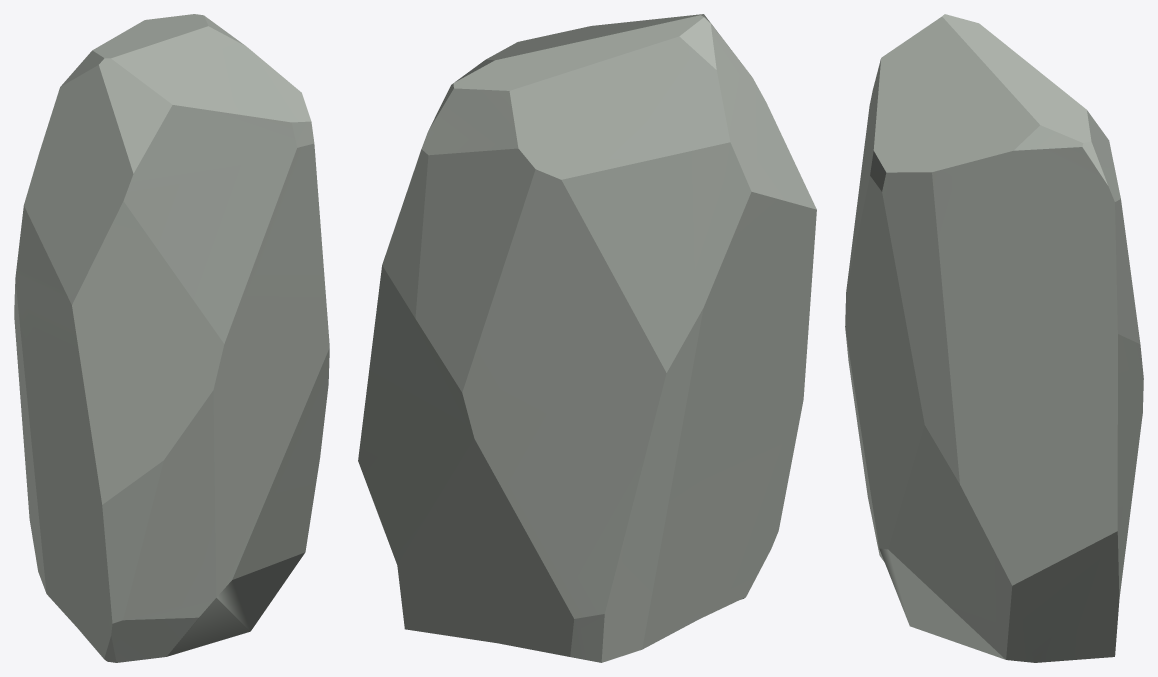
Rendered from dummy_cliff_5.fbx.
The picture shows the model from 3 angles, left to right: view 1: azimuth 30°, elevation 25°; view 2: azimuth 150°, elevation 25°; view 3: azimuth 270°, elevation 25°; orthographic projection. The views are drawn at different scales.
Parts seen in each view (by area): view 1: Rock.050; view 2: Rock.050; view 3: Rock.050.
Boxes of the visible parts, box(x1,y1,x2,y2) form: Rock.050: box(14, 14, 329, 662); Rock.050: box(358, 14, 816, 662); Rock.050: box(845, 14, 1143, 662).
Size of the model in its own units: 587 by 1028 by 501.
Materials: 1 (1 with a texture image).
